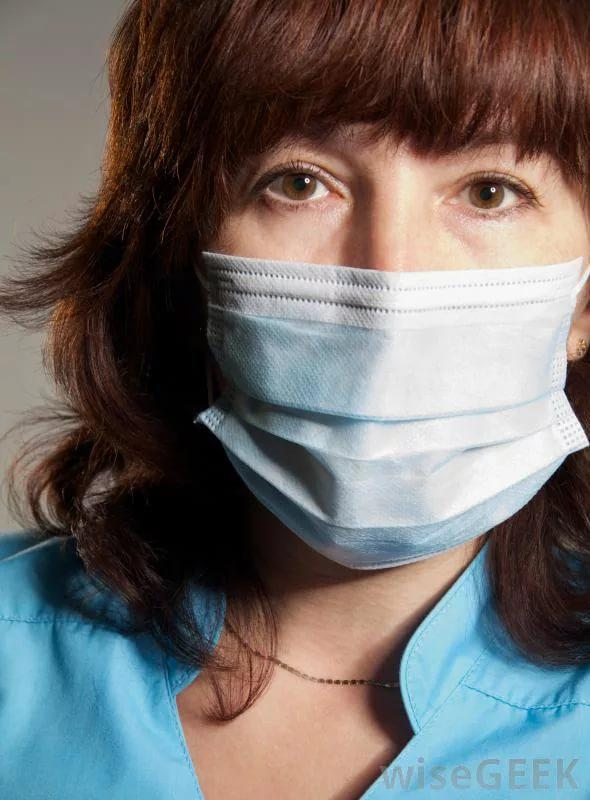mask: (199, 65, 590, 551)
